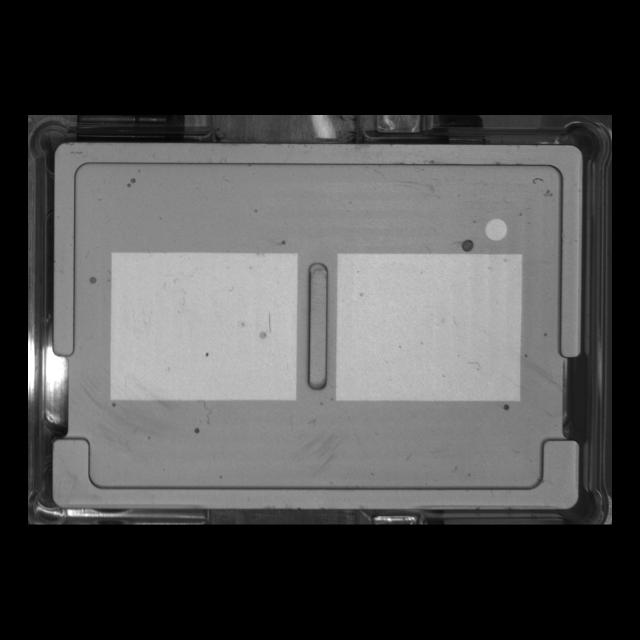door: (40, 422, 593, 518)
point: (481, 213, 513, 245)
